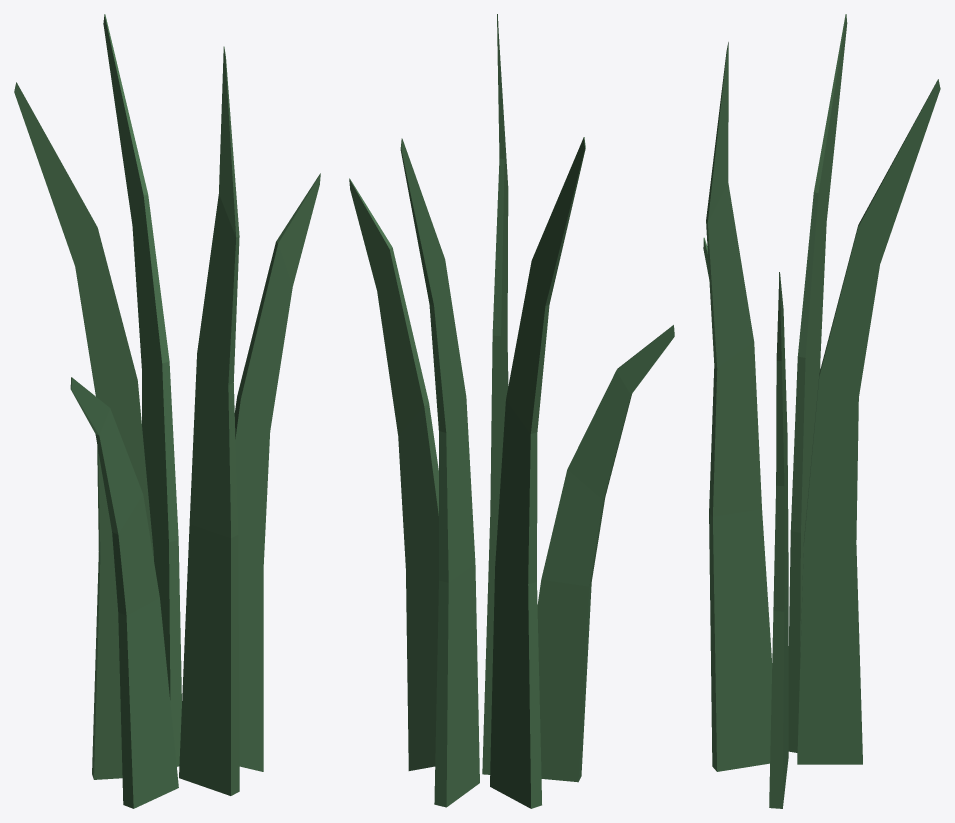
The model's file is PlainsGrass(2).fbx.
3 views of the same model, side by side, from view 1: azimuth 30°, elevation 25°; view 2: azimuth 150°, elevation 25°; view 3: azimuth 270°, elevation 25° (orthographic). The views are drawn at different scales.
Parts seen in each view (by area): view 1: PlainsGrass(2); view 2: PlainsGrass(2); view 3: PlainsGrass(2).
Boxes of the visible parts, left/top/right/bottom form: PlainsGrass(2): left=14, top=14, right=320, bottom=808; PlainsGrass(2): left=349, top=14, right=674, bottom=808; PlainsGrass(2): left=703, top=14, right=940, bottom=808.
Bounding box in the file's own units: 0.5502 × 1.38 × 0.4011.
